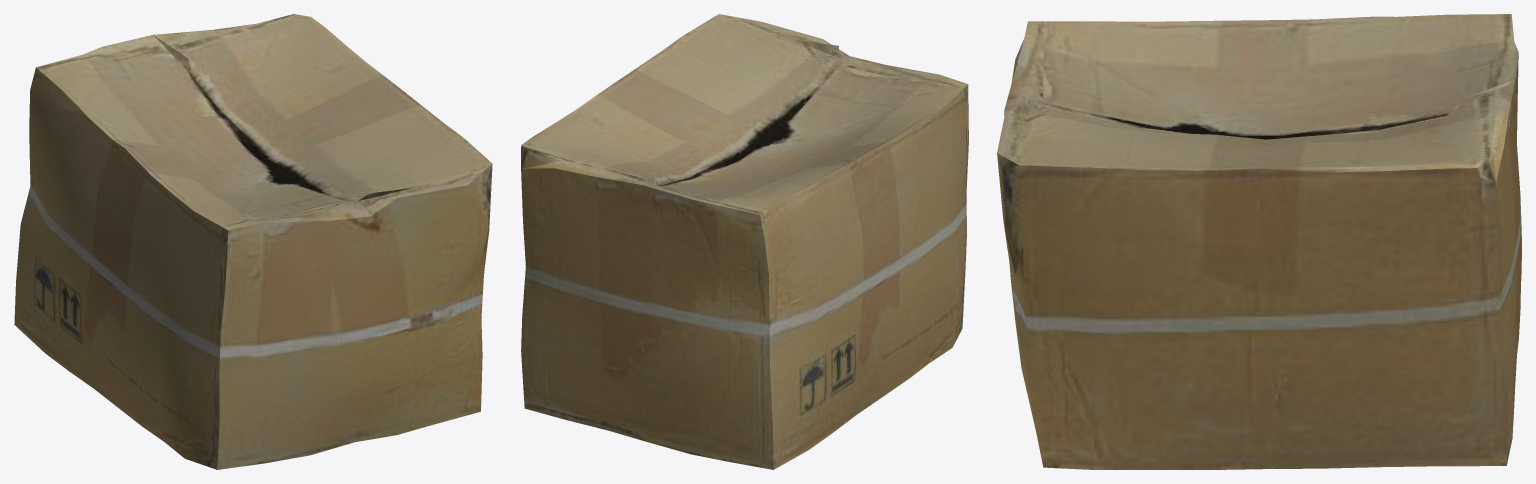
File: carton.glb
3 views of the same model, side by side, from view 1: azimuth 30°, elevation 25°; view 2: azimuth 150°, elevation 25°; view 3: azimuth 270°, elevation 25° (orthographic). The views are drawn at different scales.
Parts seen in each view (by area): view 1: mesh; view 2: mesh; view 3: mesh.
Boxes of the visible parts, bbox=[...] form: mesh: bbox=[14, 14, 492, 469]; mesh: bbox=[521, 14, 968, 469]; mesh: bbox=[997, 14, 1521, 469].
Bounding box in the file's own units: 0.3886 × 0.34 × 0.5134.
Materials: 1 (1 with a texture image).
